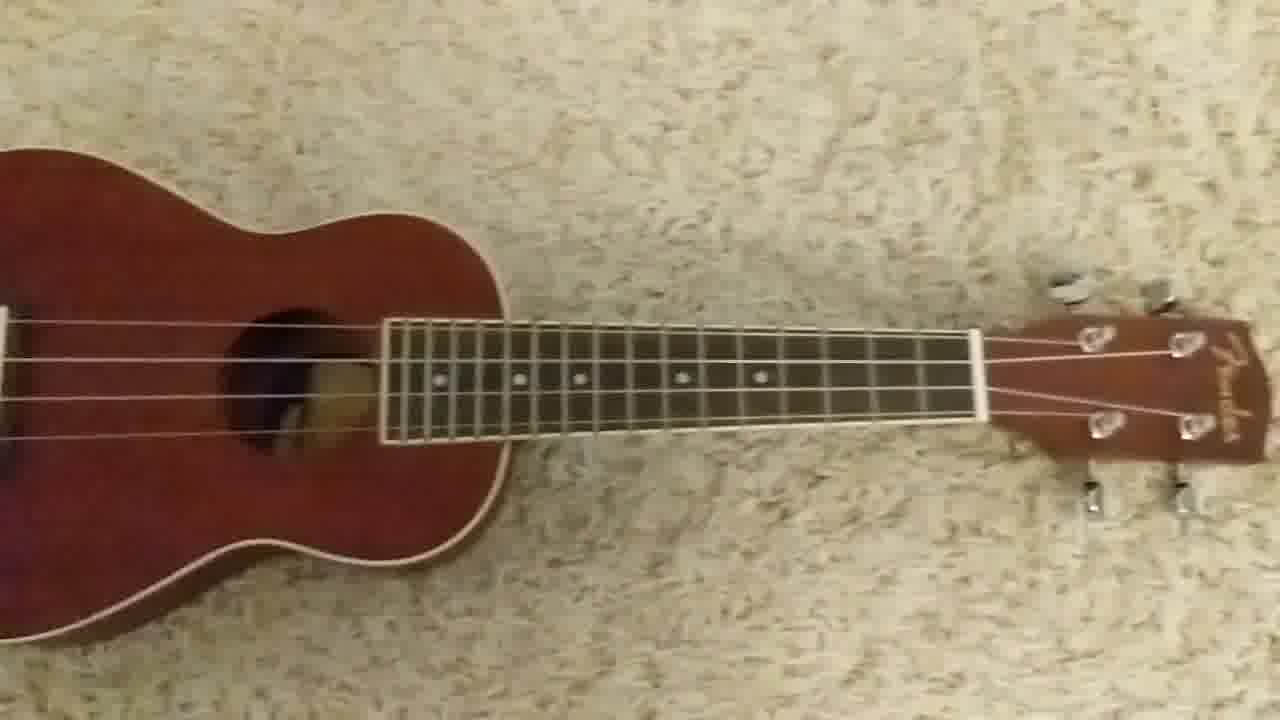Body: (1, 144, 517, 646)
Bridge: (1, 300, 24, 476)
Headstock: (986, 271, 1270, 522)
